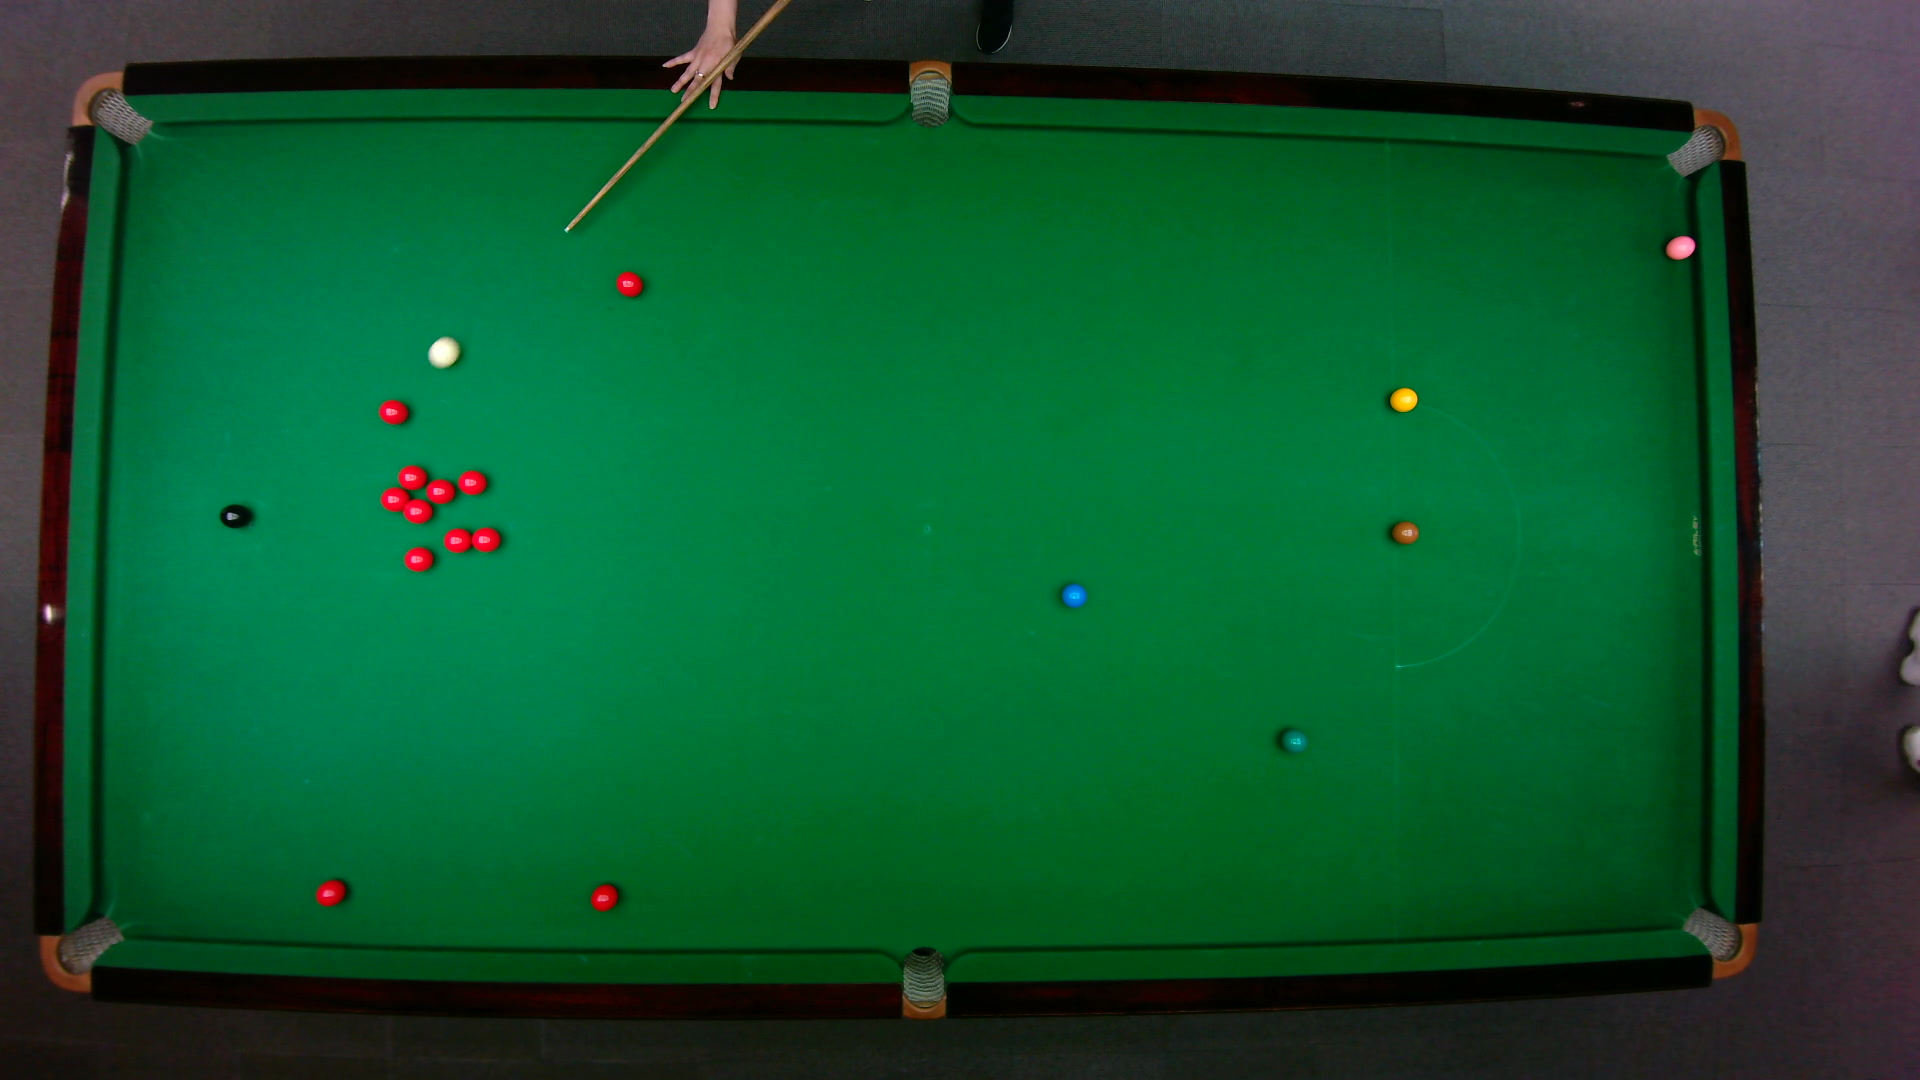bag: (37, 913, 125, 992), (69, 69, 152, 145), (1677, 905, 1756, 978), (1663, 107, 1742, 177), (901, 944, 944, 1021), (909, 57, 949, 128)
black: (218, 502, 251, 527)
blue: (1059, 582, 1087, 608)
brown: (1390, 520, 1419, 545)
cue: (564, 0, 793, 231)
green: (1278, 727, 1309, 753)
pink: (1663, 232, 1697, 260)
red: (314, 877, 347, 907), (442, 525, 473, 554), (396, 463, 429, 491), (401, 496, 433, 524), (378, 484, 410, 512), (469, 525, 501, 553), (402, 545, 434, 572), (376, 398, 409, 425), (422, 477, 456, 502), (589, 882, 618, 911), (456, 468, 487, 495), (615, 270, 644, 297)
white: (426, 334, 462, 368)
yellow: (1387, 386, 1418, 411)
zone: (1390, 401, 1520, 667)
